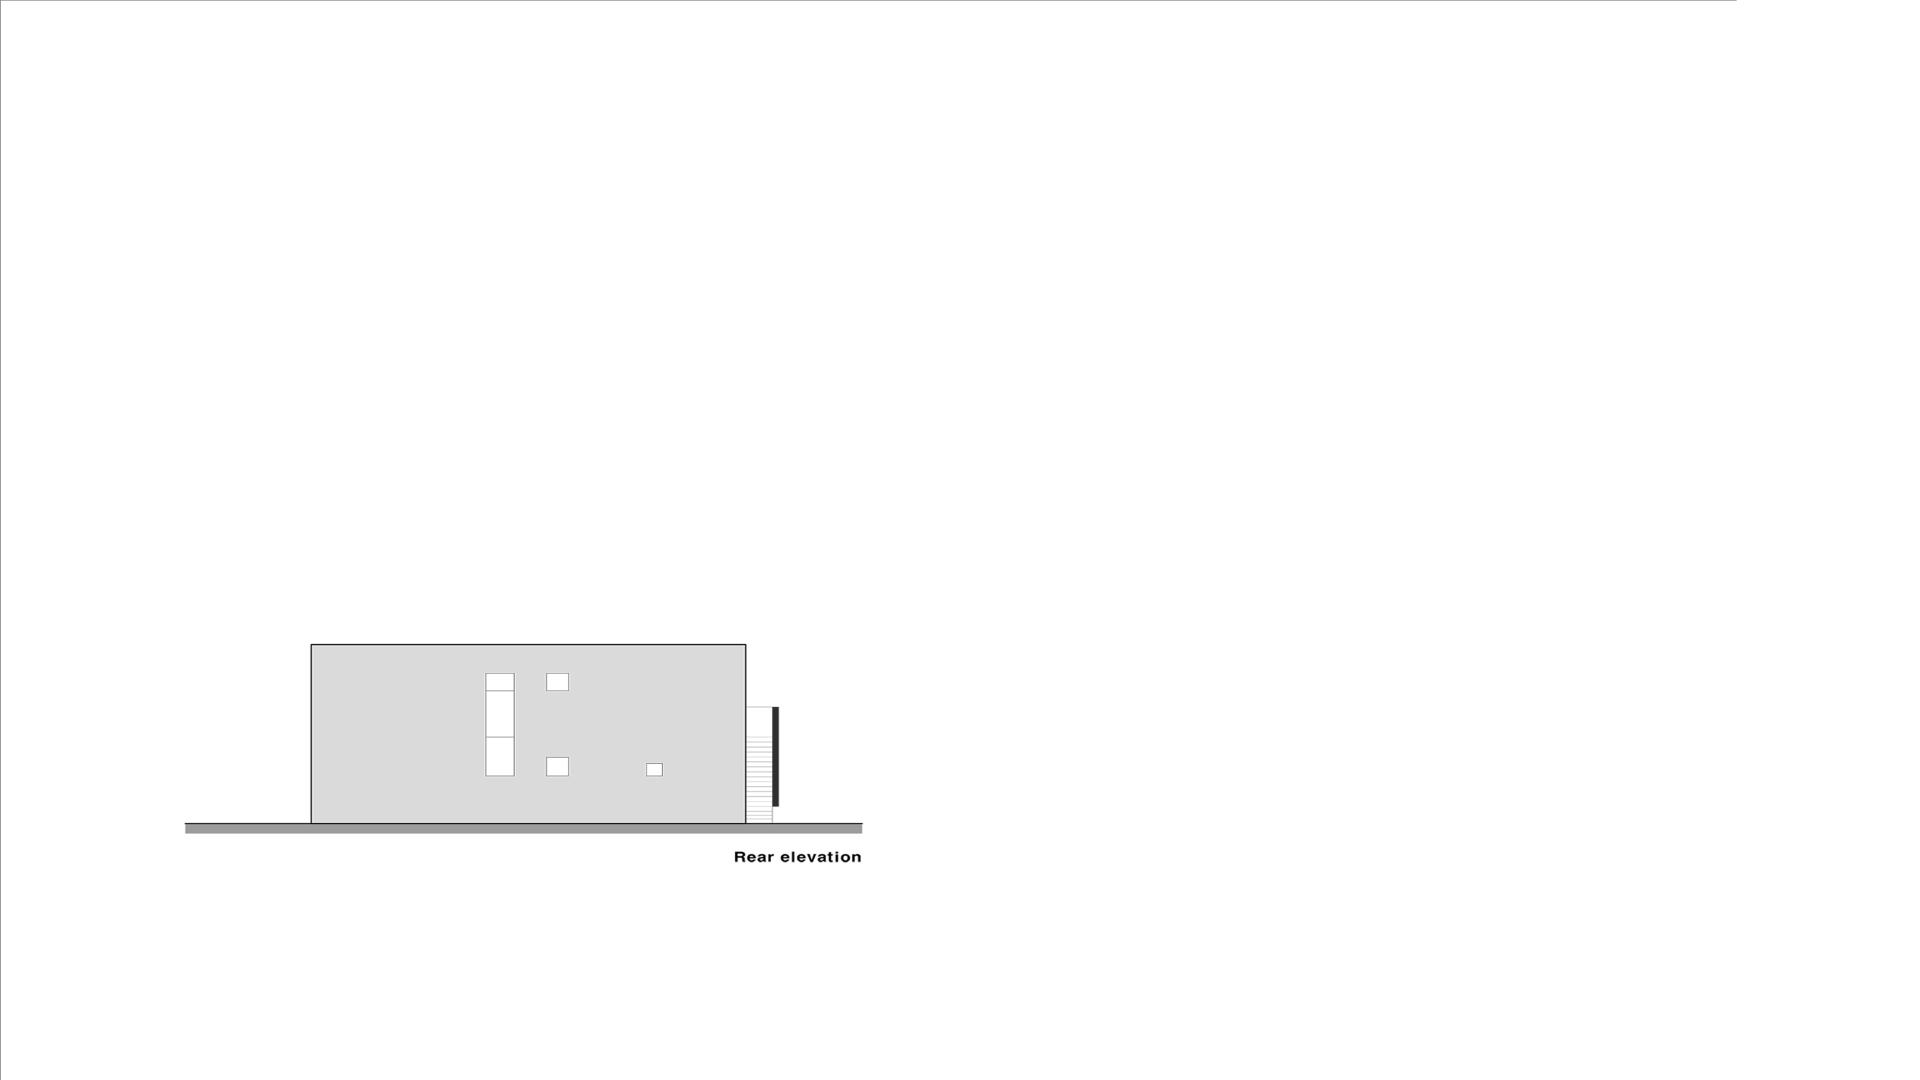wall: (311, 644, 746, 824)
window: (486, 673, 515, 776), (546, 757, 569, 776), (546, 673, 569, 691), (646, 763, 663, 776)
